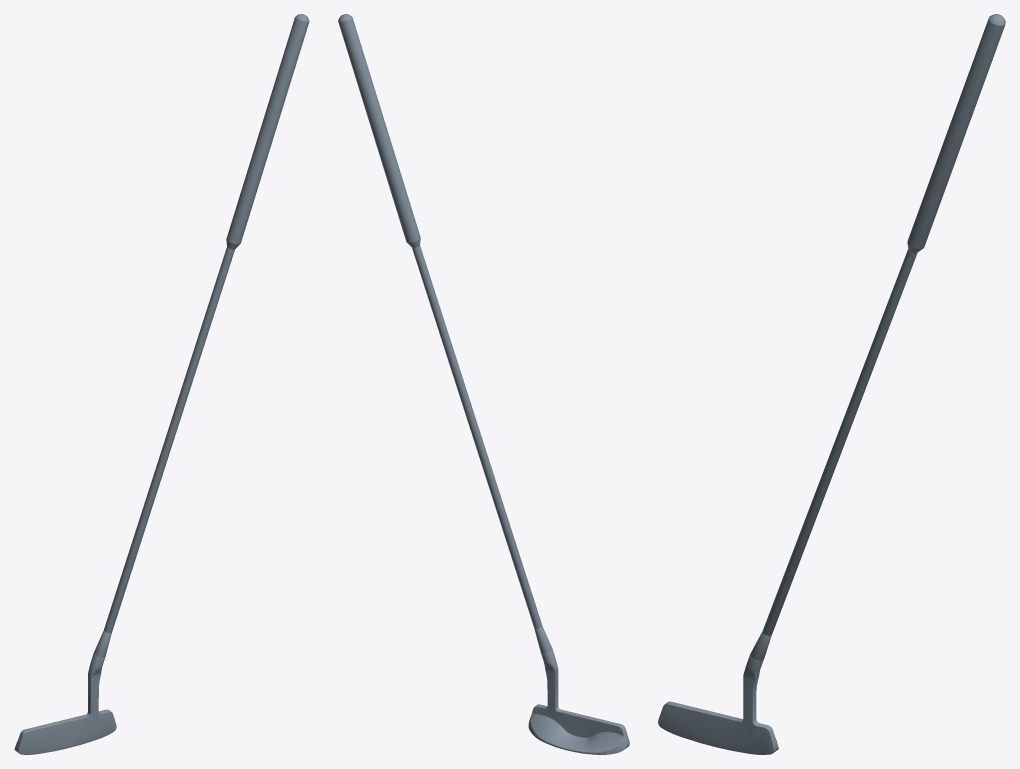
The model's file is golfvr-putter.glb.
The picture shows the model from 3 angles, left to right: view 1: azimuth 30°, elevation 25°; view 2: azimuth 150°, elevation 25°; view 3: azimuth 330°, elevation 25°; orthographic projection. The views are drawn at different scales.
Visible parts, largest first — view 1: Object01; view 2: Object01; view 3: Object01.
Part boxes in pixels (x1=…): Object01: x1=14, y1=14, x2=309, y2=754; Object01: x1=338, y1=14, x2=629, y2=754; Object01: x1=658, y1=14, x2=1005, y2=754.
Bounding box in the file's own units: 1.81 × 4 × 0.1697.
